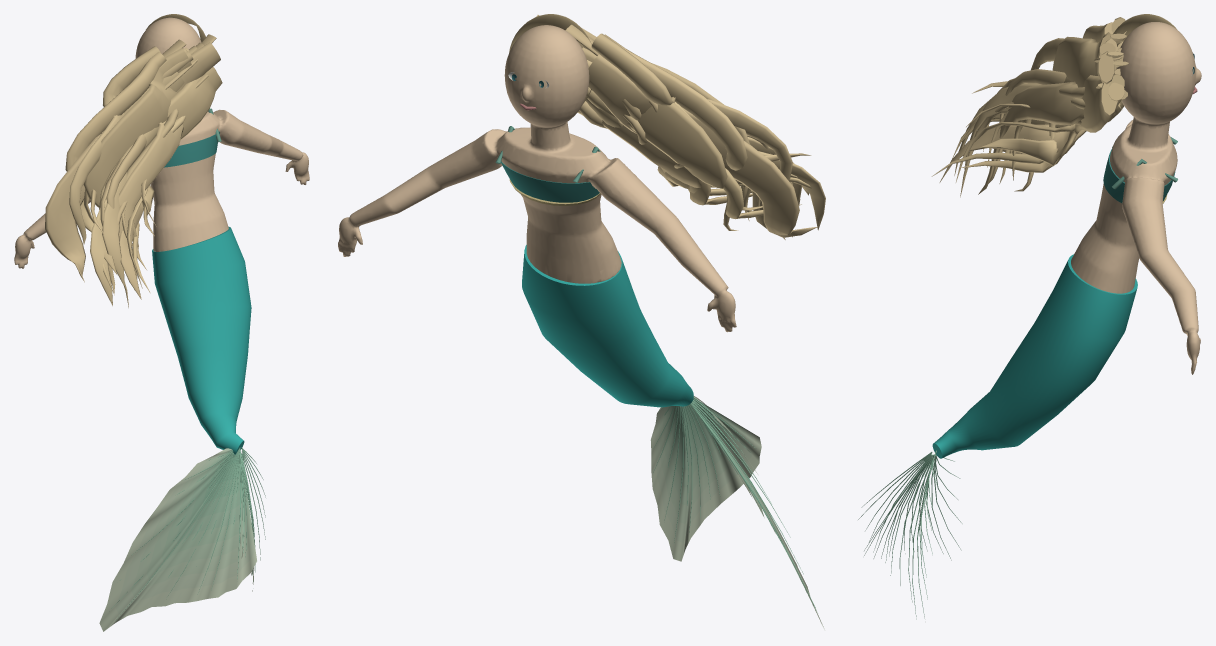
The model's file is mermaid-finished.glb.
3 views of the same model, side by side, from view 1: azimuth 30°, elevation 25°; view 2: azimuth 150°, elevation 25°; view 3: azimuth 270°, elevation 25° (orthographic). The views are drawn at different scales.
Visible parts, largest first — view 1: Mermaid; view 2: Mermaid; view 3: Mermaid.
Part boxes in pixels (x1,y1,x2,y2): Mermaid: (14, 14, 309, 631); Mermaid: (338, 14, 825, 629); Mermaid: (858, 14, 1201, 619).
Bounding box in the file's own units: 3.05 × 4.75 × 2.34.
